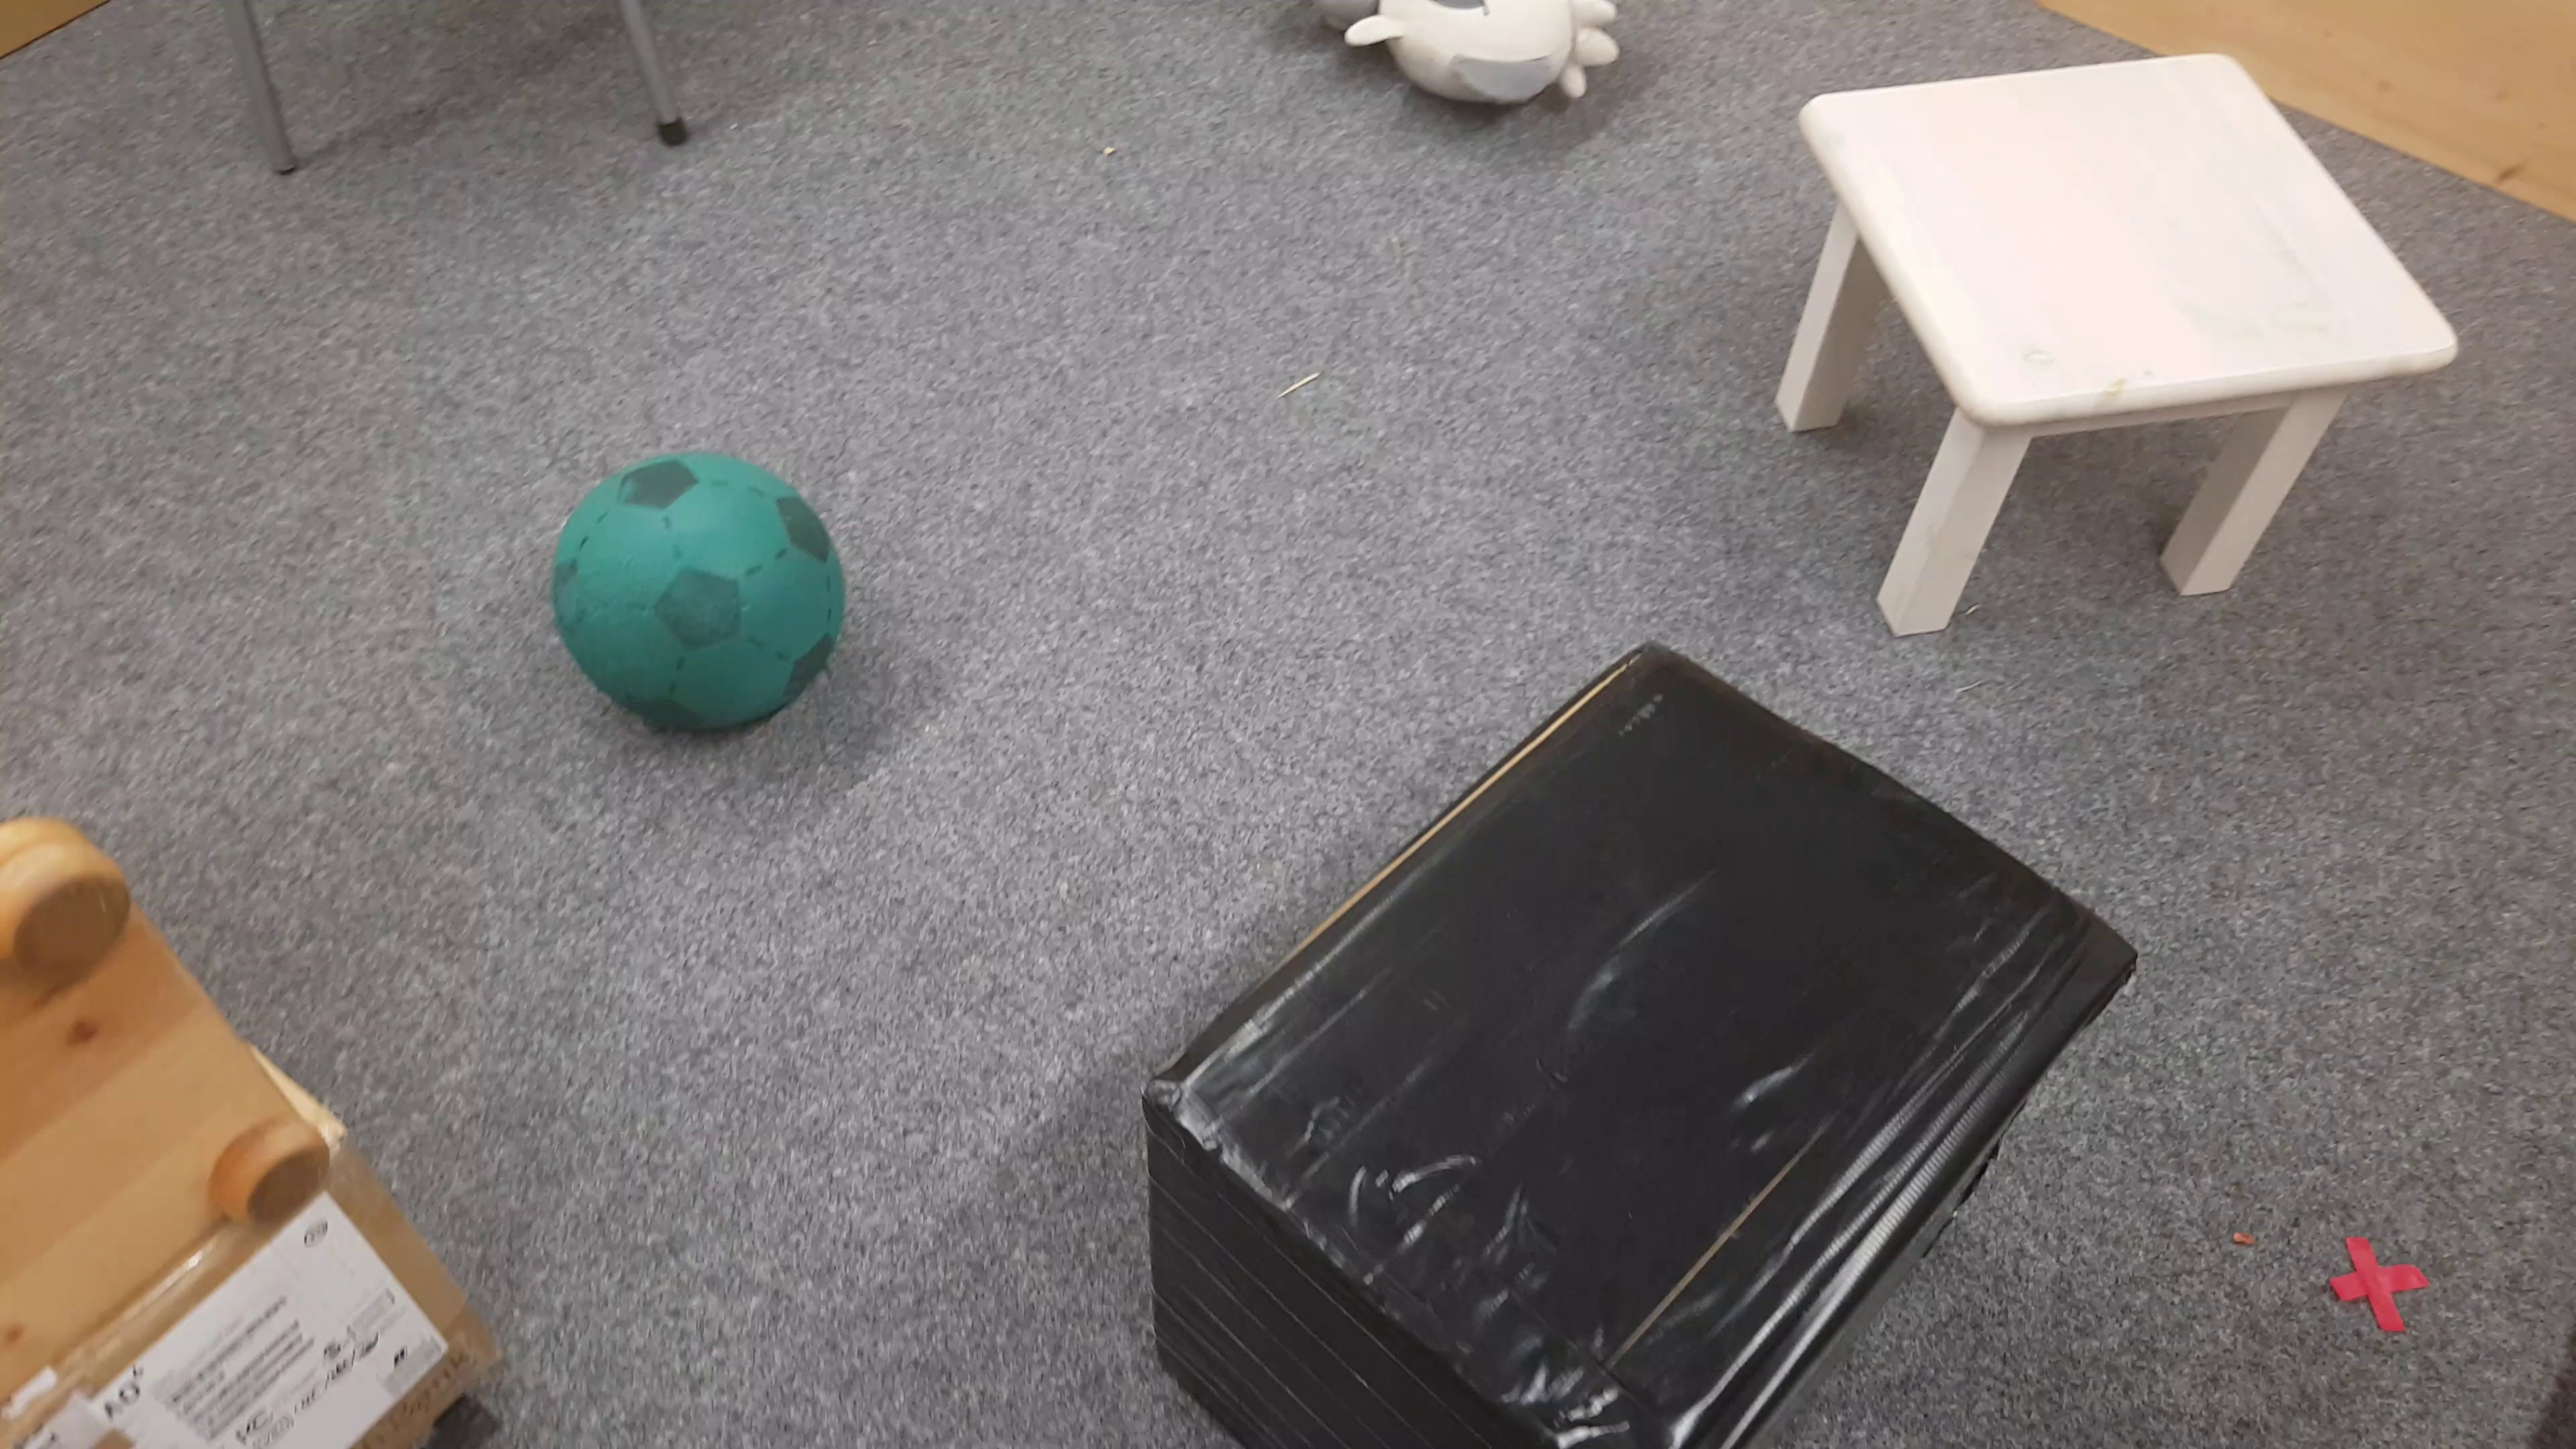grasp: (1297, 2, 1621, 122)
kick: (547, 453, 844, 731)
push: (1148, 633, 2139, 1449)
